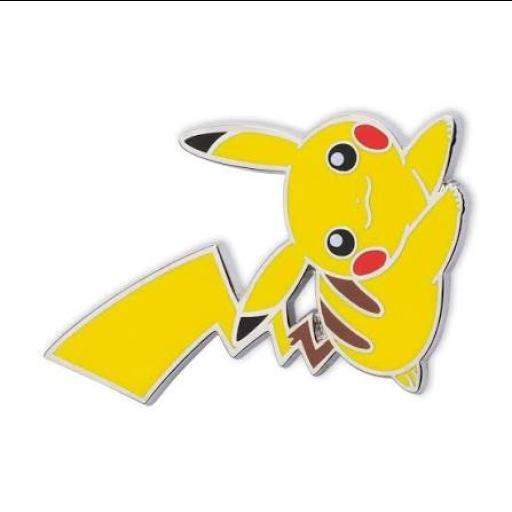Pikachu: (42, 108, 464, 404)
